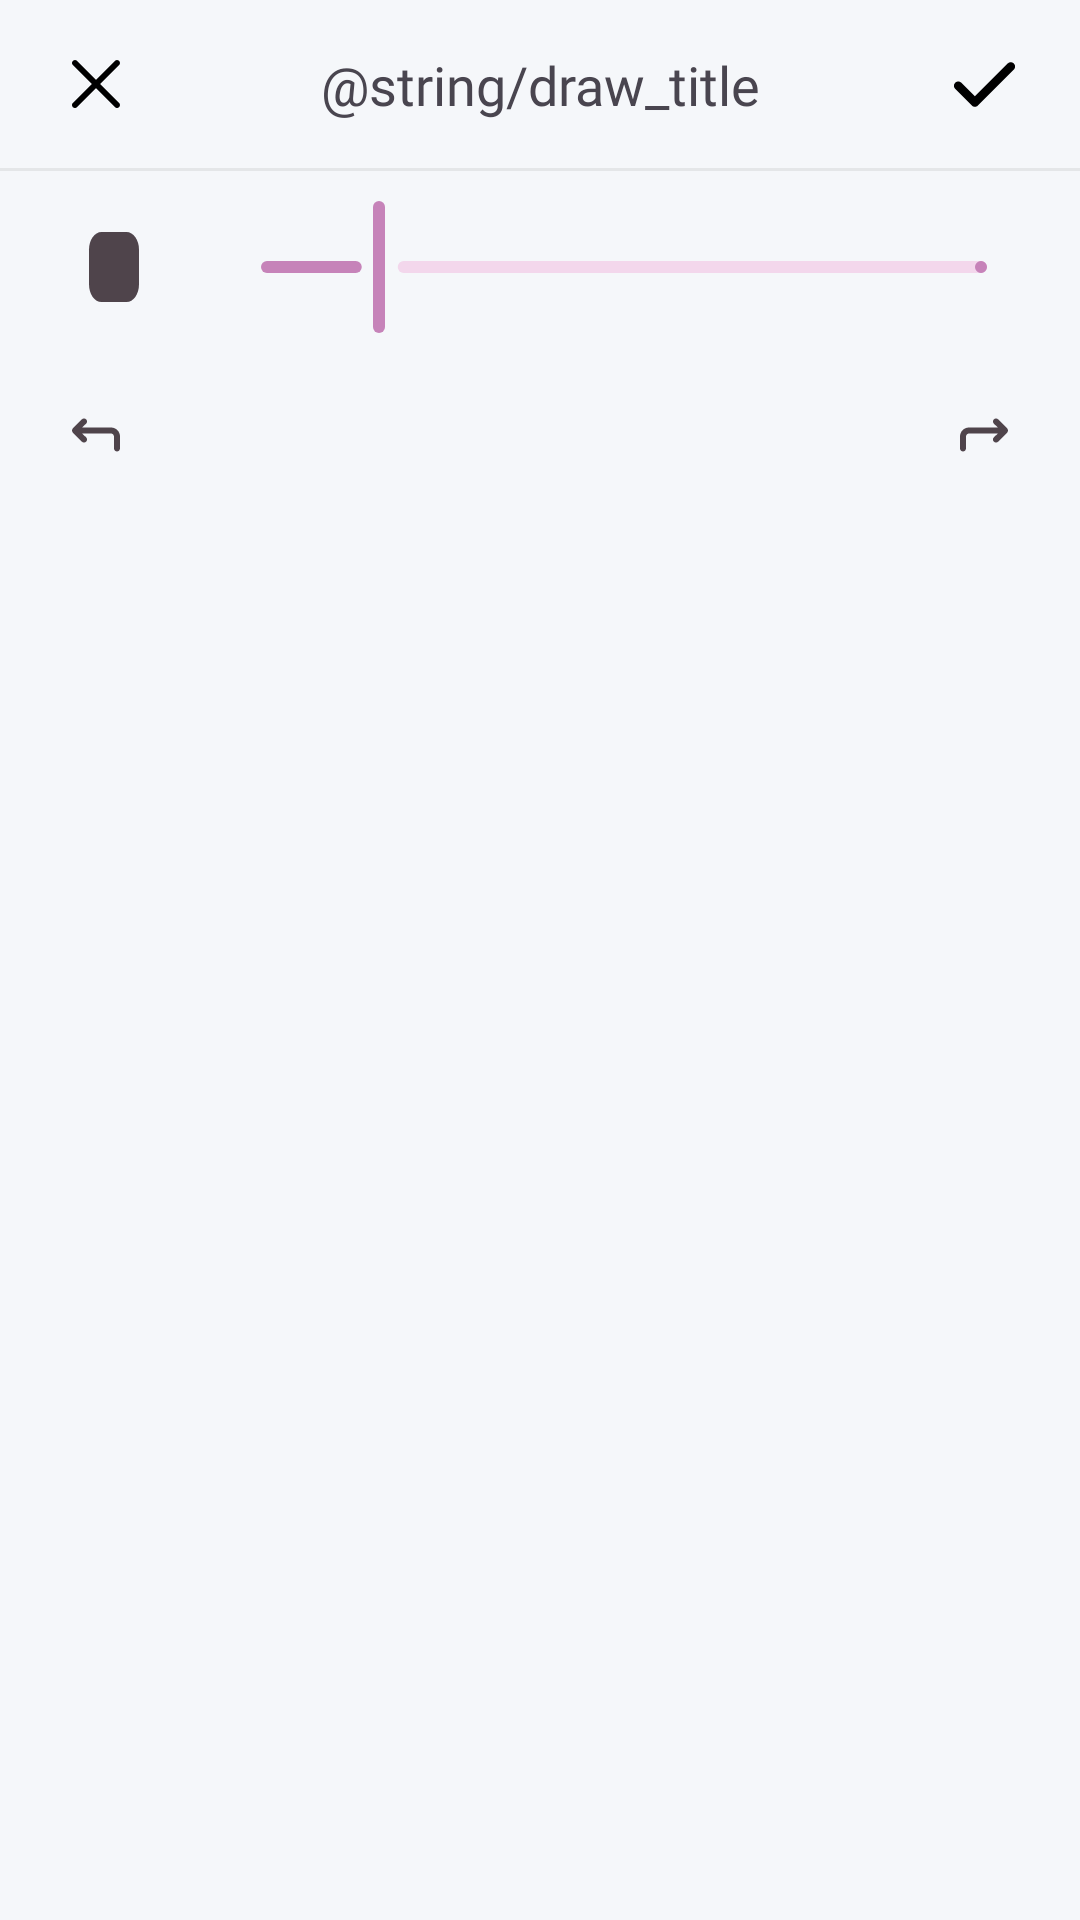

Screen size 1080x1920. Icon name, then its box in pixels as (x1, y1, x2, y2):
check: (954, 62, 1015, 107)
exit: (72, 60, 120, 108)
redo: (960, 418, 1008, 452)
undo: (72, 418, 120, 452)
